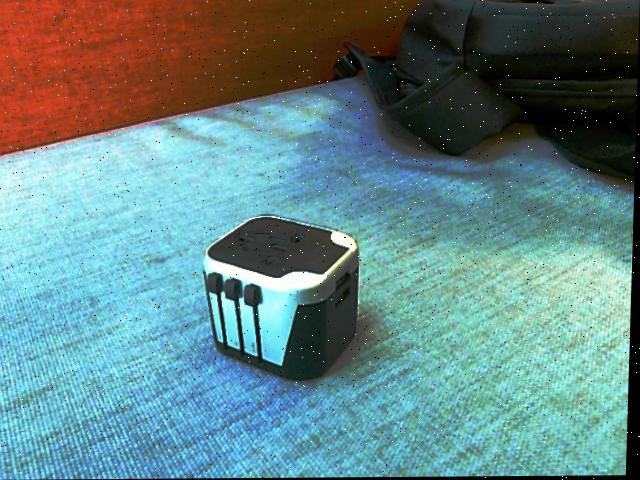adapter: (200, 213, 362, 381)
